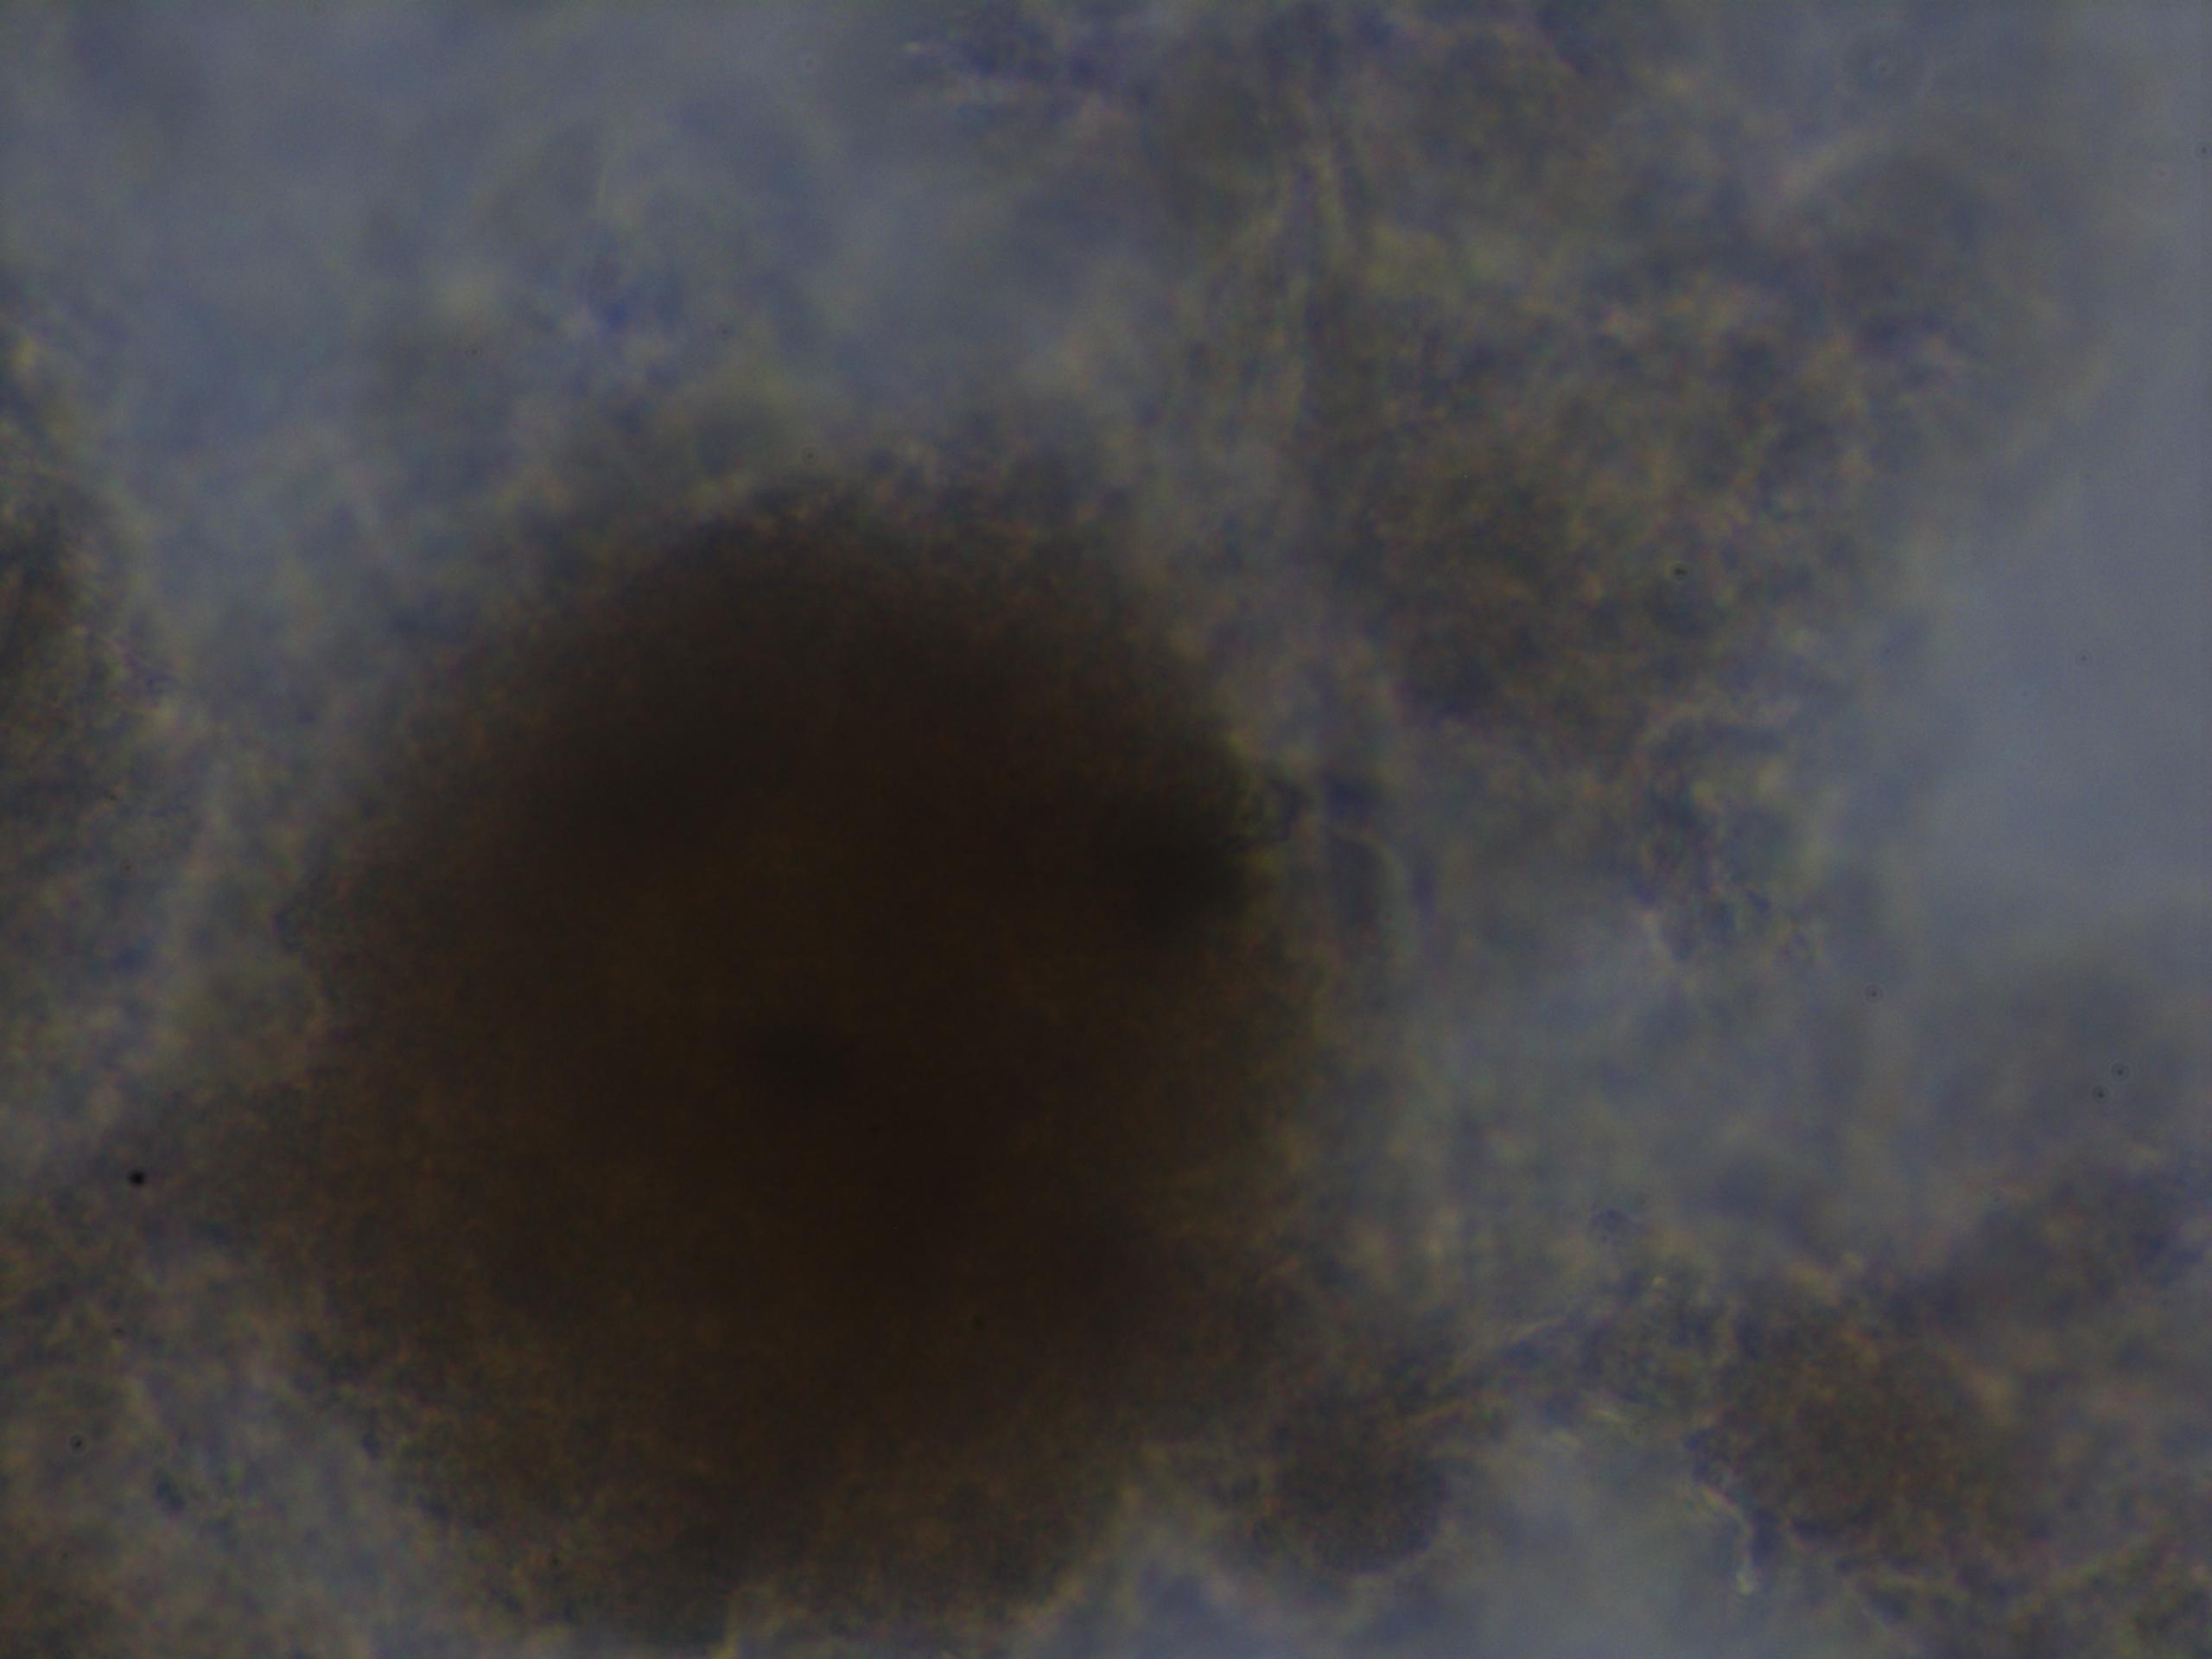spherical_floc: (209, 455, 1366, 1659)
